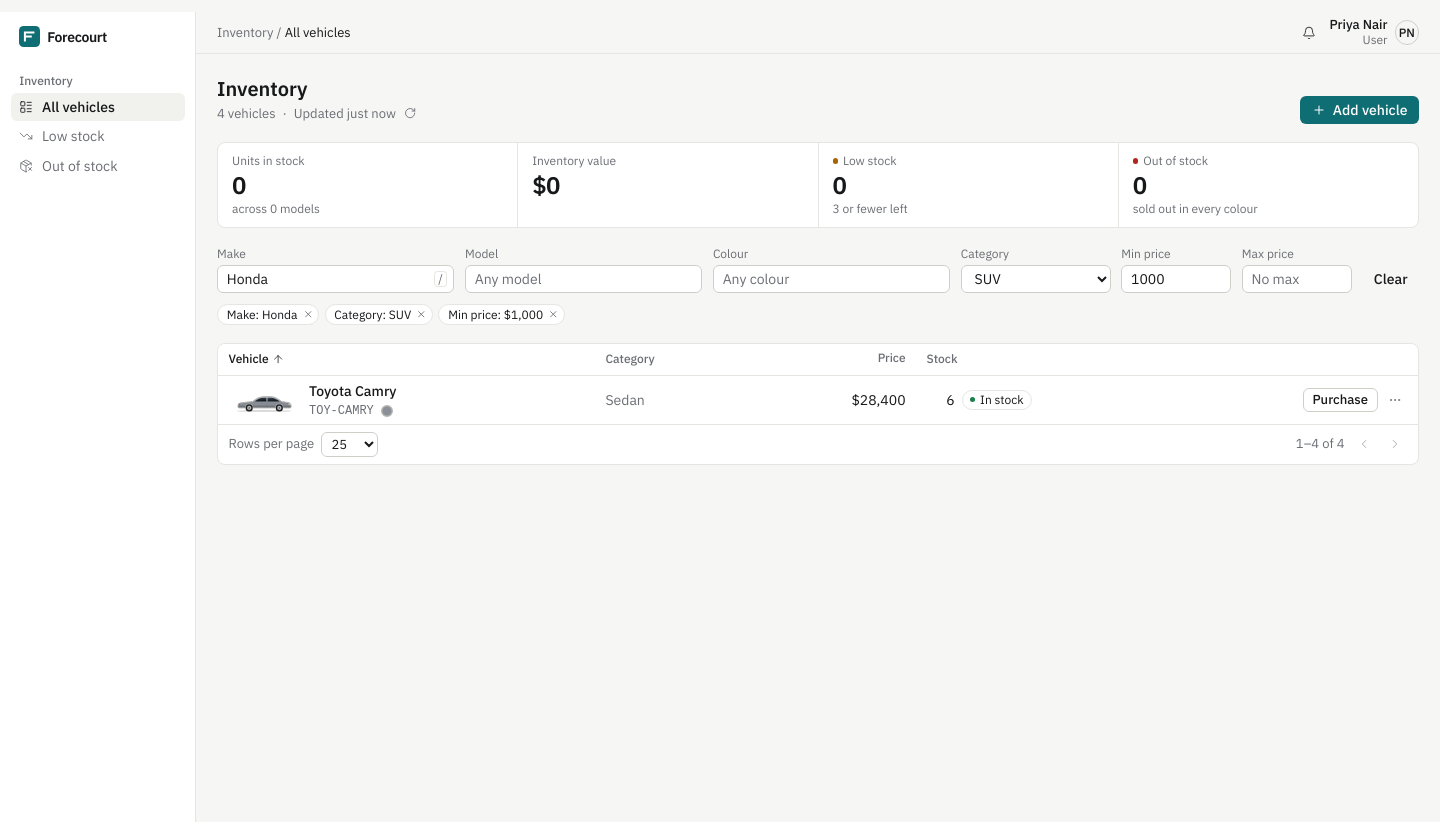
Test case: filters › clears every filter at once
Click the button "Clear": (1391, 279) [1362,265,1419,293]
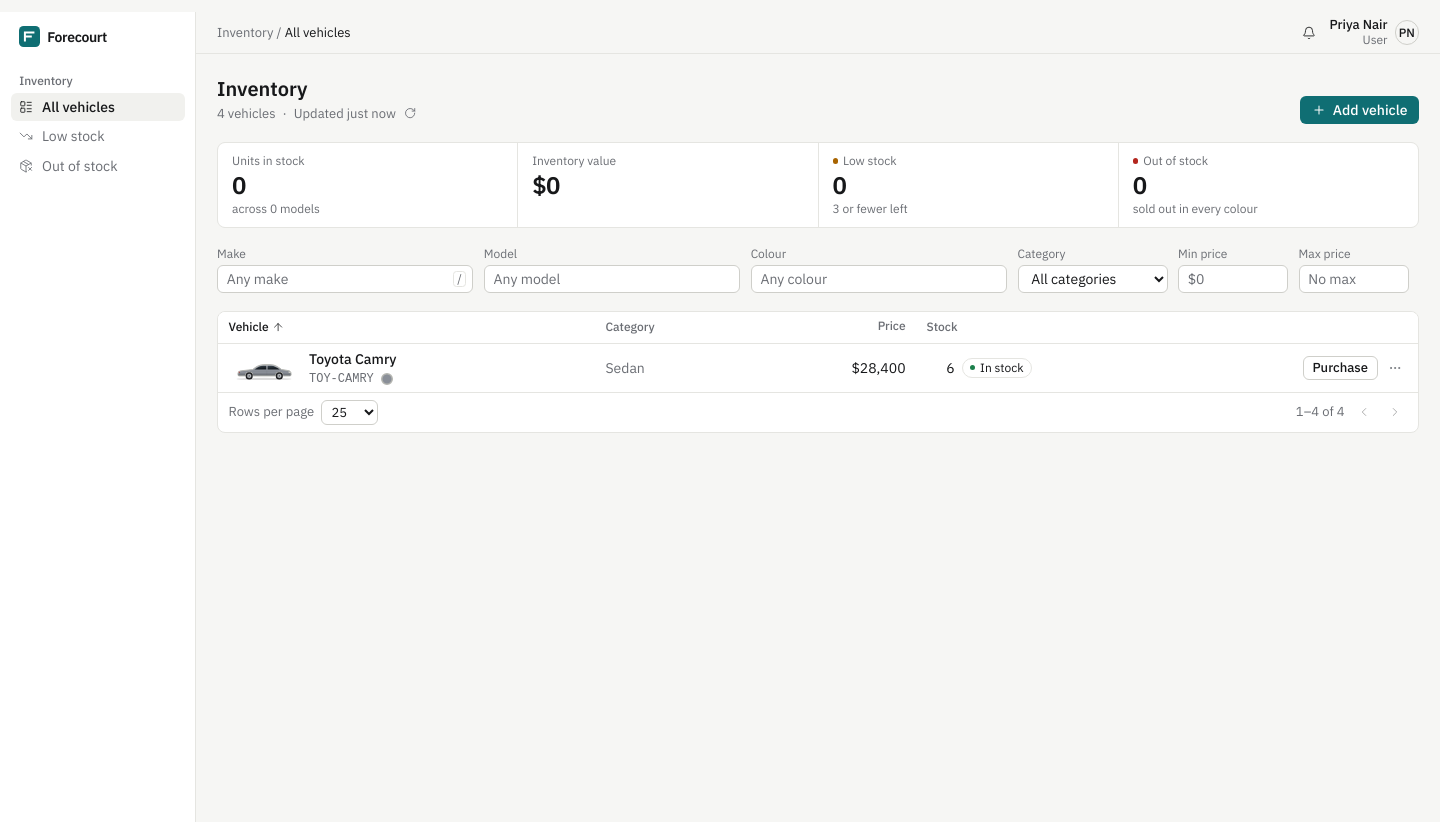
Now the field labelled "Make" is empty, box [217,265,473,293]
